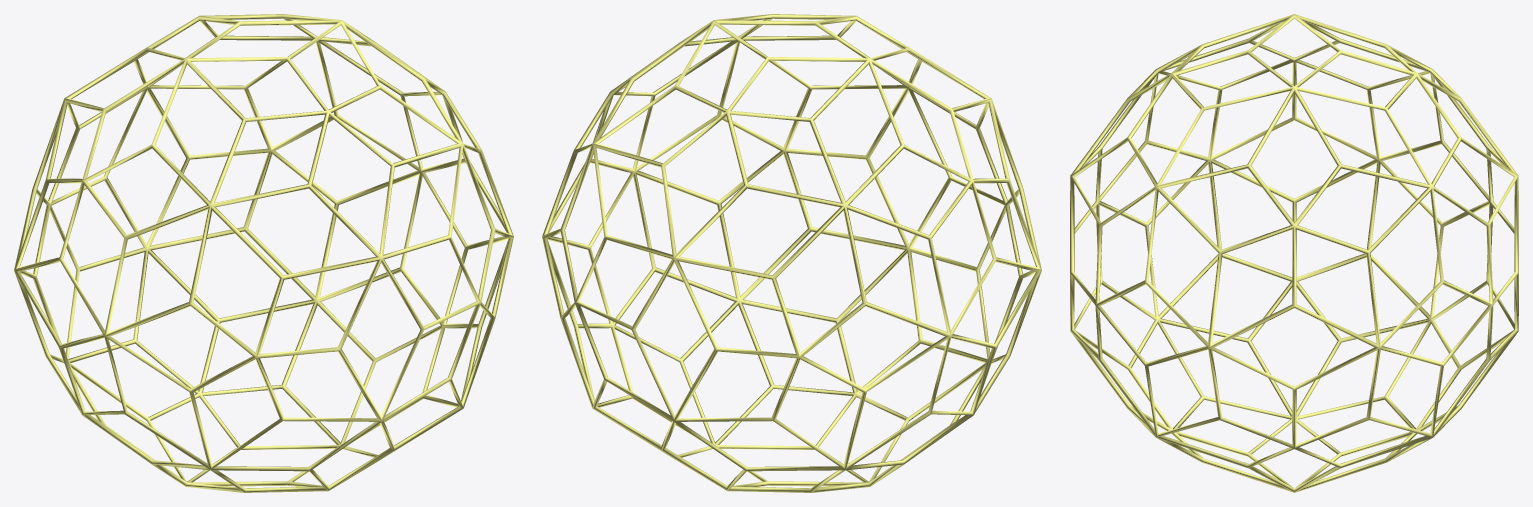
The model's file is JoinedTruncatedIcosahedron1.glb.
3 views of the same model, side by side, from view 1: azimuth 30°, elevation 25°; view 2: azimuth 150°, elevation 25°; view 3: azimuth 270°, elevation 25° (orthographic). The views are drawn at different scales.
Visible parts, largest first — view 1: JoinedTruncatedIcosahedron; view 2: JoinedTruncatedIcosahedron; view 3: JoinedTruncatedIcosahedron.
Part boxes in pixels (x1,y1,x2,y2): JoinedTruncatedIcosahedron: [14, 14, 513, 492]; JoinedTruncatedIcosahedron: [542, 14, 1041, 492]; JoinedTruncatedIcosahedron: [1070, 14, 1518, 492].
Bounding box in the file's own units: 4.9 × 4.9 × 4.9.
